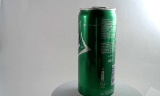sprite: (71, 5, 109, 95)
